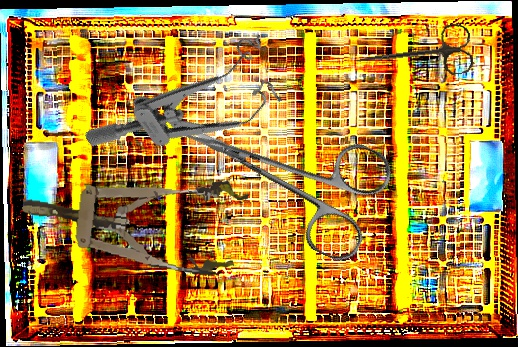Iris Scissors: (164, 75, 399, 267), (353, 22, 475, 88)
Speculum: (83, 19, 298, 205), (16, 156, 251, 280)
